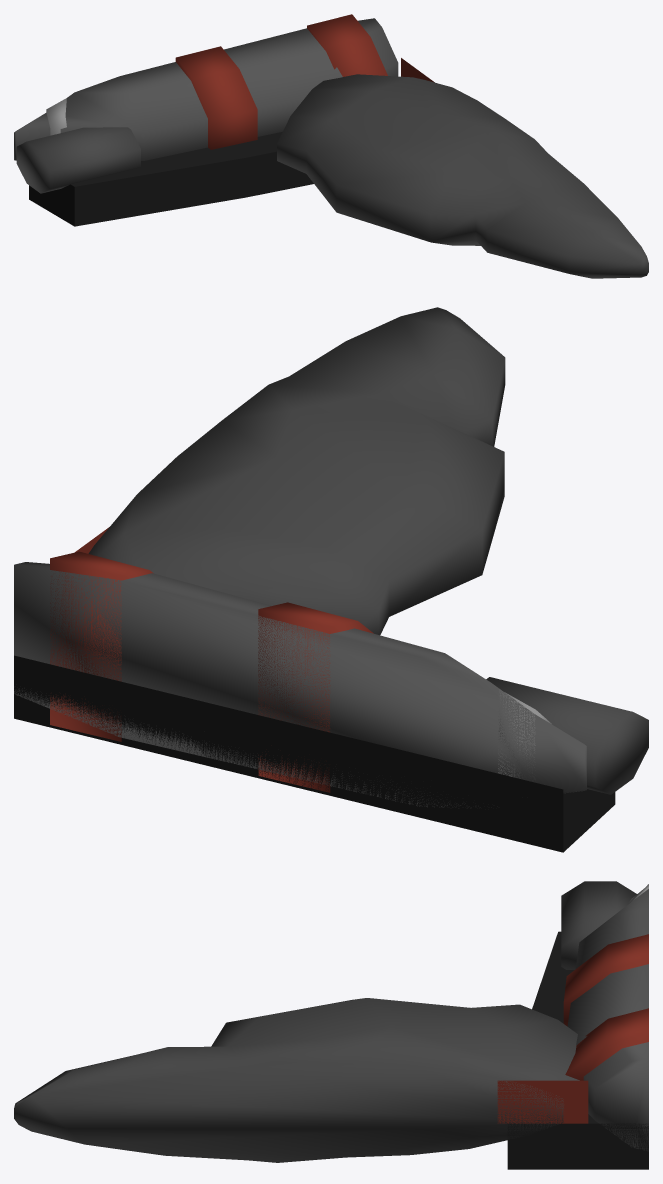
File: newsh-caret-121.glb
3 renders of one model, top to bottom at view 1: azimuth 30°, elevation 25°; view 2: azimuth 150°, elevation 25°; view 3: azimuth 270°, elevation 25°, orthographic. The views are drawn at different scales.
Parts seen in each view (by area): view 1: newsh-caret-121; view 2: newsh-caret-121; view 3: newsh-caret-121.
Part boxes in pixels (x1,y1,x2,y2): newsh-caret-121: (14,14,648,278); newsh-caret-121: (14,307,648,852); newsh-caret-121: (14,881,648,1169).
Size of the model in its own units: 1.33 by 0.3746 by 1.75.
